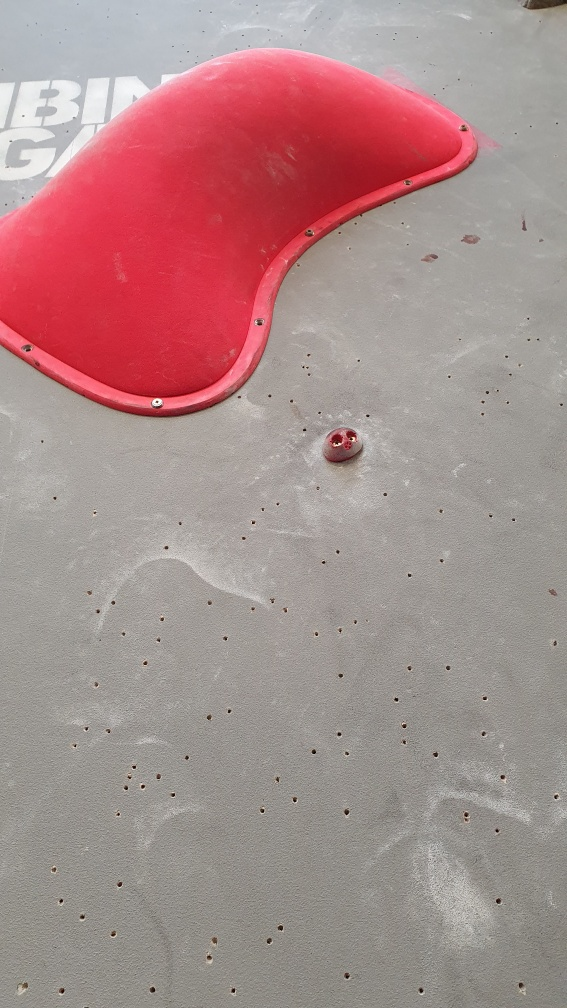Pinch: (315, 422, 370, 472)
